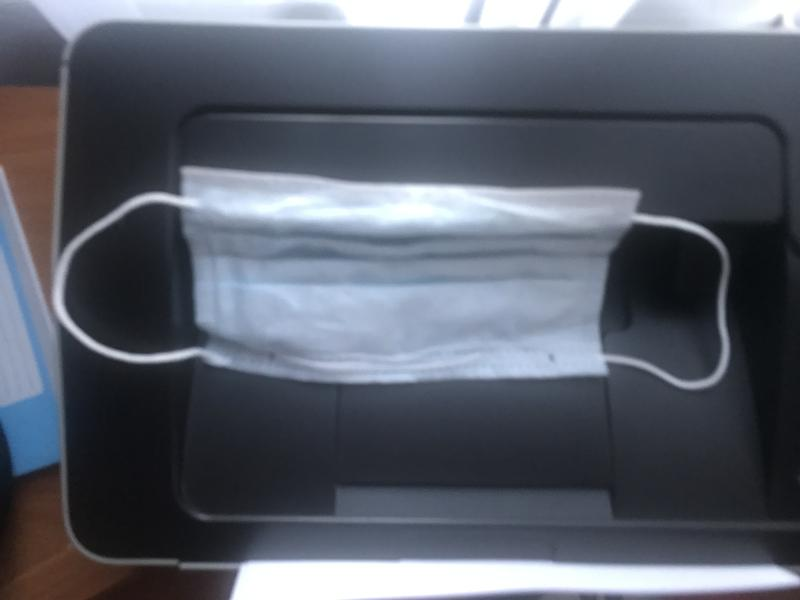medical_mask: (54, 168, 735, 393)
